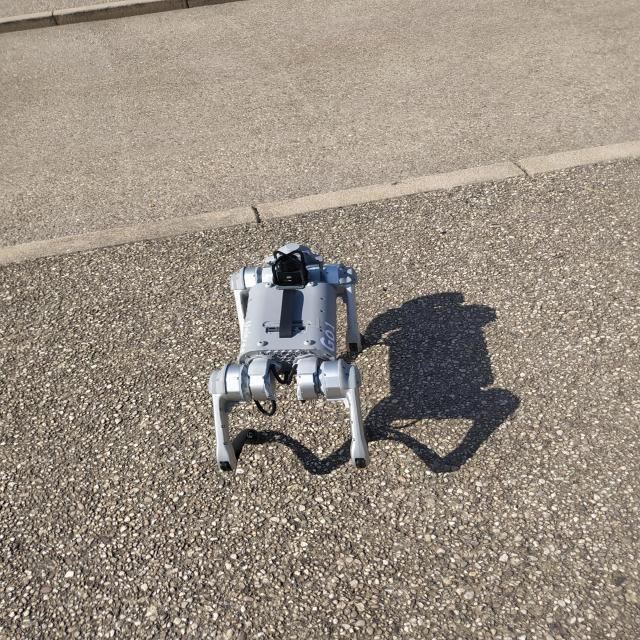unitree-go1-robot: (197, 232, 387, 487)
